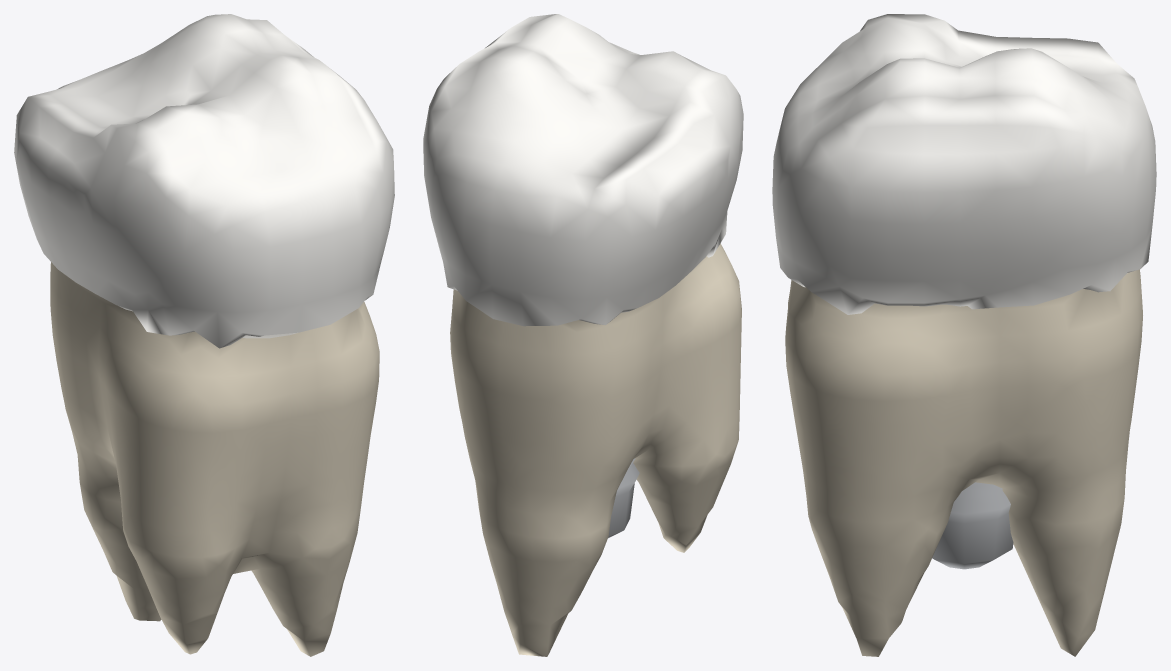
3 renders of one model, left to right at view 1: azimuth 30°, elevation 25°; view 2: azimuth 150°, elevation 25°; view 3: azimuth 270°, elevation 25°, orthographic. The views are drawn at different scales.
Visible parts, largest first — view 1: crown, root; view 2: crown, root, implant; view 3: crown, root, implant.
Part boxes in pixels (x1,y1,x2,y2): crown: (14, 14, 394, 348); root: (50, 262, 379, 656); crown: (423, 14, 743, 326); root: (450, 243, 741, 656); implant: (608, 458, 639, 538); crown: (772, 14, 1156, 314); root: (785, 269, 1142, 656); implant: (932, 482, 1013, 569).
Bounding box in the file's own units: 9.29 × 18.98 × 10.68.
